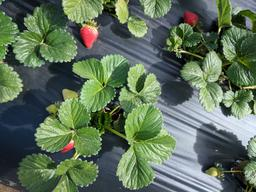green strawberry: (205, 166, 219, 177)
red strawberry: (80, 21, 98, 49), (183, 10, 199, 27), (61, 139, 75, 153)
